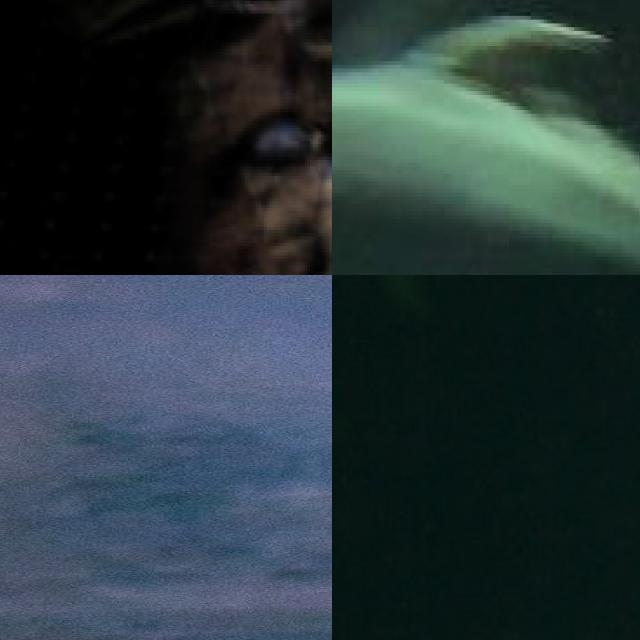fish: (0, 0, 332, 275), (332, 0, 640, 275)
